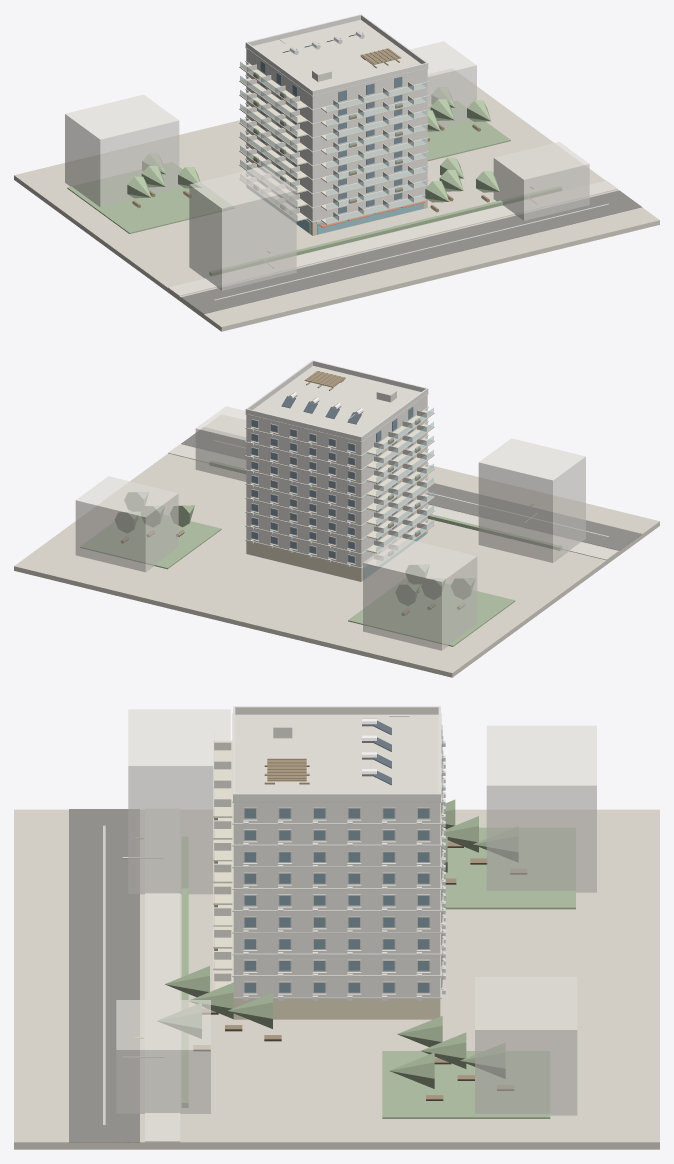
Rendered from standard-mixed.glb.
The picture shows the model from 3 angles, top to bottom: view 1: azimuth 30°, elevation 25°; view 2: azimuth 150°, elevation 25°; view 3: azimuth 270°, elevation 25°; orthographic projection. The views are drawn at different scales.
Visible parts, largest first — view 1: site, sctx2, body, road, sctx0, slab10, sctx3, green1, walk, sctx1, green2, hedge (+31 smaller); view 2: site, body, sctx2, sctx0, sctx1, slab10, road, green1, green2, sctx3, walk, gfcore (+11 smaller); view 3: site, body, road, sctx0, sctx2, slab10, sctx1, walk, sctx3, green2, green1, gfcore (+16 smaller).
Part boxes in pixels (x1,y1,x2,y2): site: [14, 68, 659, 331]; sctx2: [189, 166, 296, 290]; body: [246, 49, 427, 221]; road: [181, 190, 641, 313]; sctx0: [65, 94, 179, 207]; slab10: [245, 19, 428, 96]; sctx3: [493, 142, 589, 220]; green1: [67, 162, 234, 233]; walk: [168, 180, 617, 296]; sctx1: [410, 41, 476, 126]; green2: [427, 101, 510, 161]; hedge: [209, 186, 561, 275]; site: [14, 414, 659, 677]; body: [246, 395, 427, 567]; sctx2: [478, 438, 585, 562]; sctx0: [363, 537, 477, 650]; sctx1: [75, 476, 178, 572]; slab10: [245, 365, 428, 442]; road: [181, 427, 641, 550]; green1: [348, 577, 515, 646]; green2: [80, 511, 221, 569]; sctx3: [195, 406, 246, 481]; walk: [168, 444, 617, 560]; gfcore: [246, 521, 427, 581]; site: [14, 809, 659, 1149]; body: [233, 803, 440, 997]; road: [69, 809, 139, 1142]; sctx0: [486, 725, 596, 892]; sctx2: [128, 709, 230, 894]; slab10: [232, 713, 441, 802]; sctx1: [475, 977, 577, 1115]; walk: [145, 809, 180, 1142]; sctx3: [116, 1000, 210, 1113]; green2: [382, 1051, 550, 1118]; green1: [443, 827, 575, 909]; gfcore: [233, 999, 440, 1019].
Bounding box in the file's own units: 100 × 33.76 × 82.
